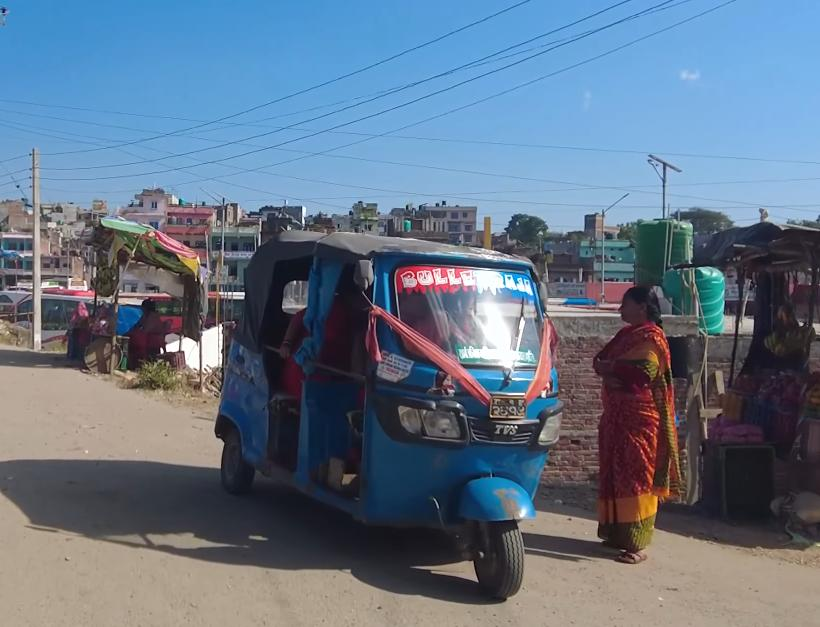auto_rickshaw: (208, 222, 575, 610)
